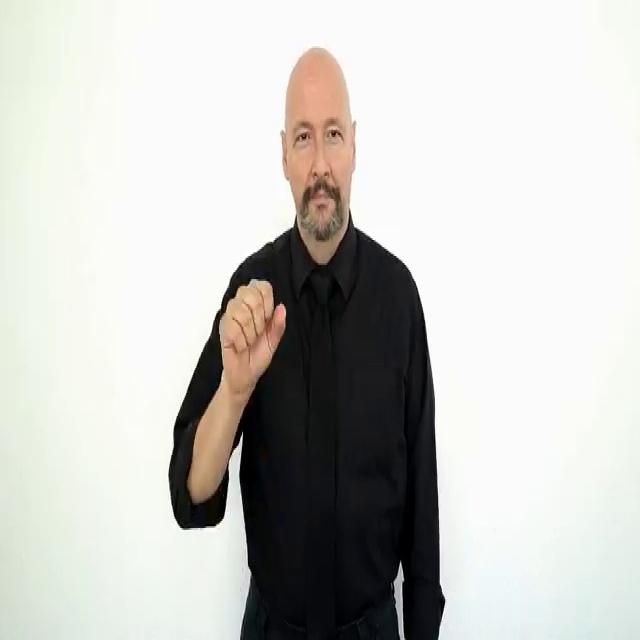yes: (219, 278, 286, 389)
